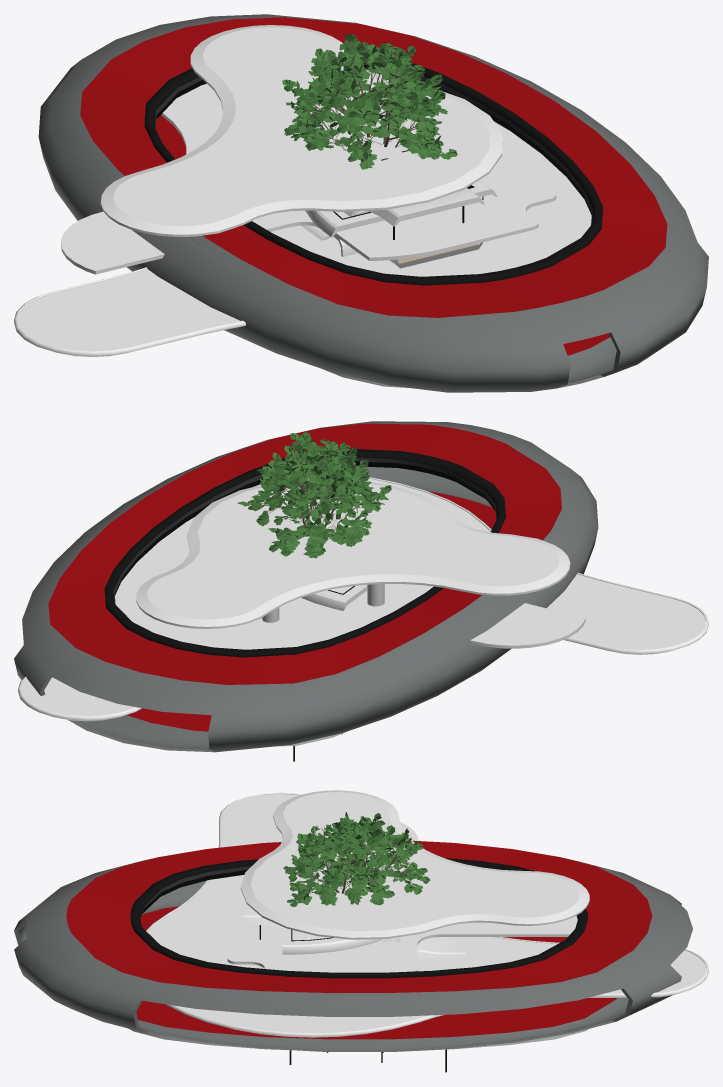
The model's file is lods.gltf.
3 renders of one model, top to bottom at view 1: azimuth 30°, elevation 25°; view 2: azimuth 150°, elevation 25°; view 3: azimuth 270°, elevation 25°, orthographic. The views are drawn at different scales.
Parts seen in each view (by area): view 1: MesseHalle.LOD1, Skycity.LOD1, EuropeanHornbeam.LOD1, GangElevation_Mittel.LOD1, GangKurve_45Grad.LOD1; view 2: MesseHalle.LOD1, Skycity.LOD1, EuropeanHornbeam.LOD1, GangKurve_90Grad.LOD1; view 3: MesseHalle.LOD1, Skycity.LOD1, EuropeanHornbeam.LOD1, GangElevation_Mittel.LOD1, GangKurve_90Grad.LOD1.
Boxes of the visible parts, x1=… form: MesseHalle.LOD1: x1=38, y1=14, x2=708, y2=392; Skycity.LOD1: x1=14, y1=25, x2=591, y2=356; EuropeanHornbeam.LOD1: x1=282, y1=33, x2=457, y2=169; GangElevation_Mittel.LOD1: x1=367, y1=188, x2=484, y2=268; GangKurve_45Grad.LOD1: x1=305, y1=210, x2=384, y2=236; MesseHalle.LOD1: x1=14, y1=421, x2=598, y2=752; Skycity.LOD1: x1=18, y1=476, x2=708, y2=721; EuropeanHornbeam.LOD1: x1=237, y1=432, x2=391, y2=558; GangKurve_90Grad.LOD1: x1=301, y1=584, x2=367, y2=734; MesseHalle.LOD1: x1=14, y1=840, x2=692, y2=1051; Skycity.LOD1: x1=146, y1=790, x2=708, y2=1037; EuropeanHornbeam.LOD1: x1=283, y1=812, x2=430, y2=906; GangElevation_Mittel.LOD1: x1=243, y1=896, x2=465, y2=1072; GangKurve_90Grad.LOD1: x1=282, y1=927, x2=382, y2=1064.
Size of the model in its own units: 63.17 by 29.71 by 76.57.
Materials: 4 (3 with a texture image).
